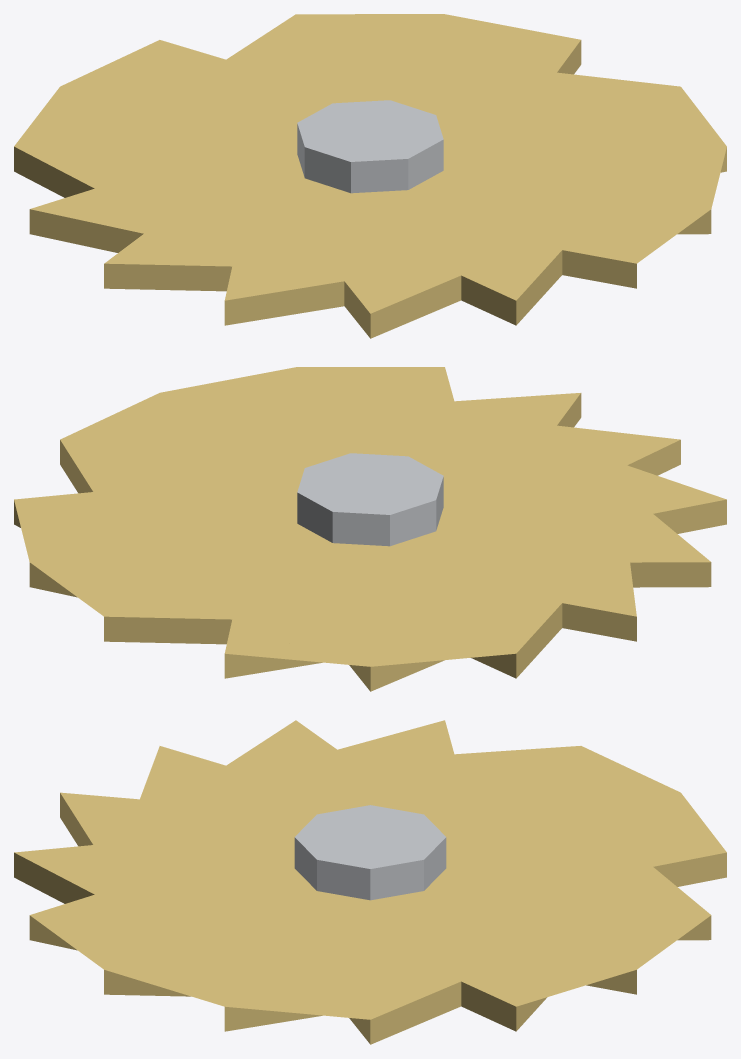
Rendered from prop-escape-wheel-blank.fbx.
3 views of the same model, one above another, from view 1: azimuth 30°, elevation 25°; view 2: azimuth 150°, elevation 25°; view 3: azimuth 270°, elevation 25° (orthographic).
Parts seen in each view (by area): view 1: prop-escape-wheel-blank; view 2: prop-escape-wheel-blank; view 3: prop-escape-wheel-blank.
Boxes of the visible parts, x1,y1,x2,y2 form: prop-escape-wheel-blank: [14, 14, 726, 338]; prop-escape-wheel-blank: [14, 367, 726, 691]; prop-escape-wheel-blank: [14, 720, 726, 1044].
Bounding box in the file's own units: 10.29 × 0.9 × 10.34.
